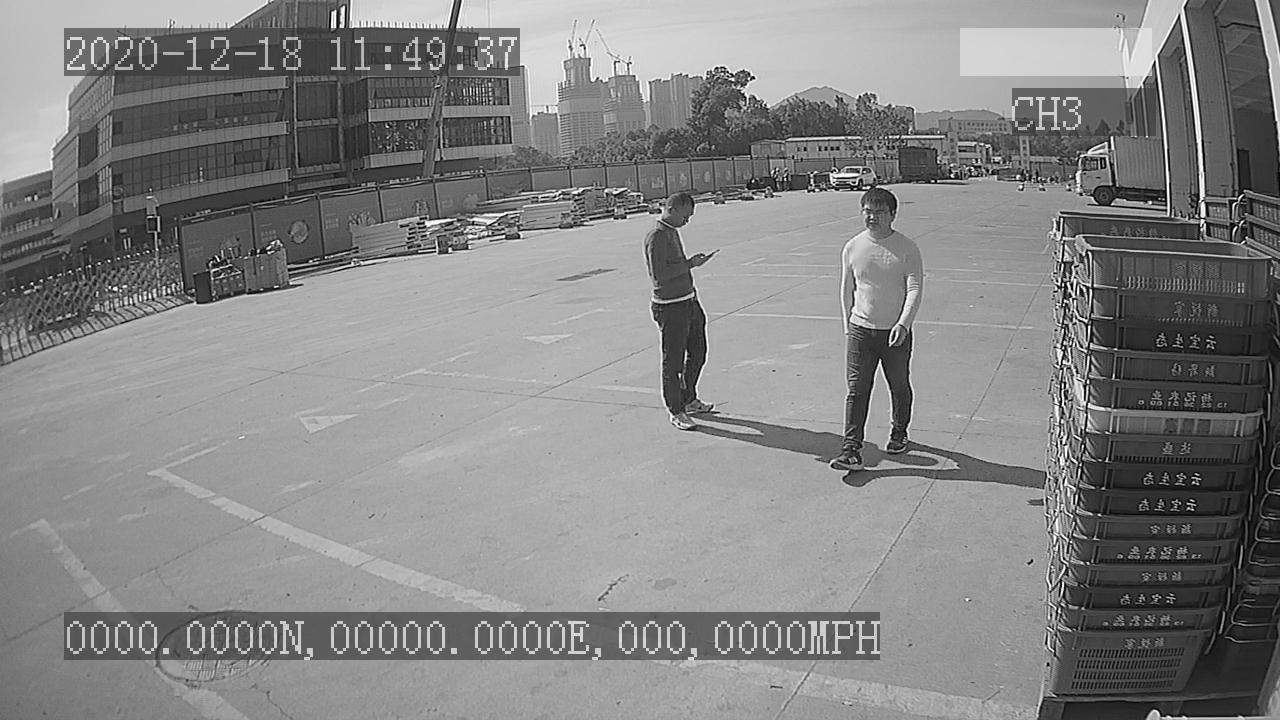person: (826, 181, 927, 472), (638, 186, 720, 435)
